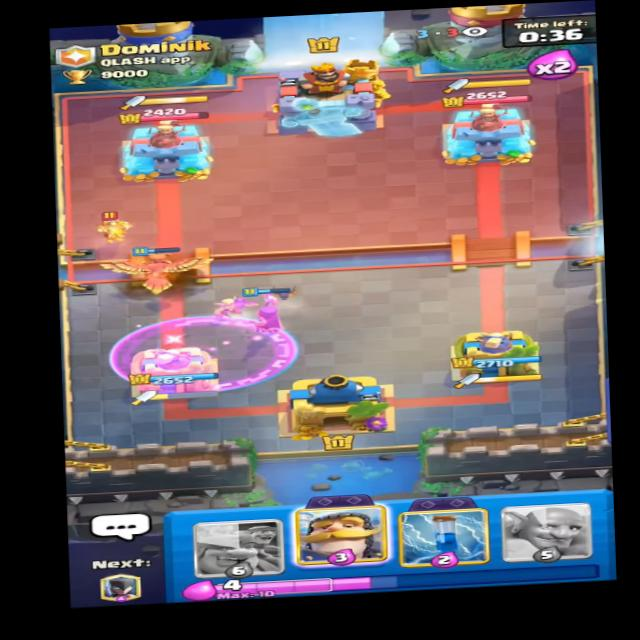wizard: (86, 207, 144, 246)
